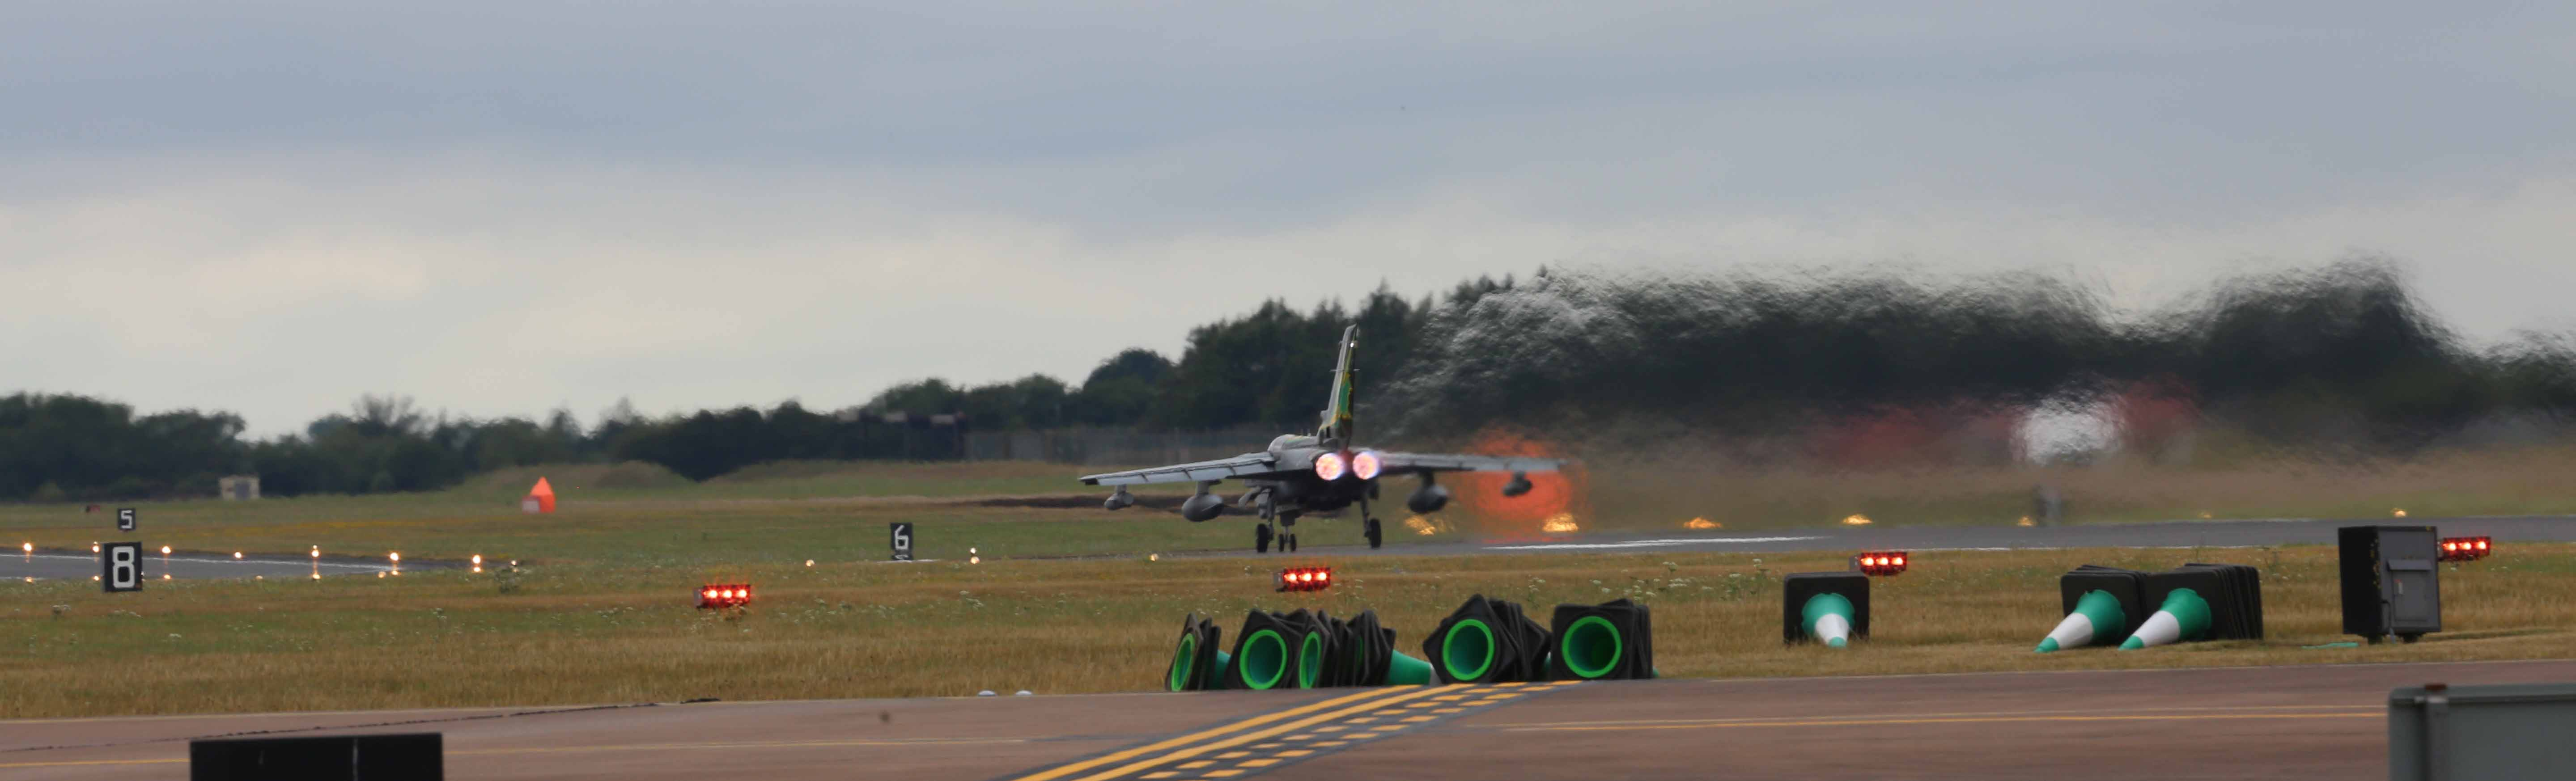Tornado: (1076, 323, 1569, 553)
